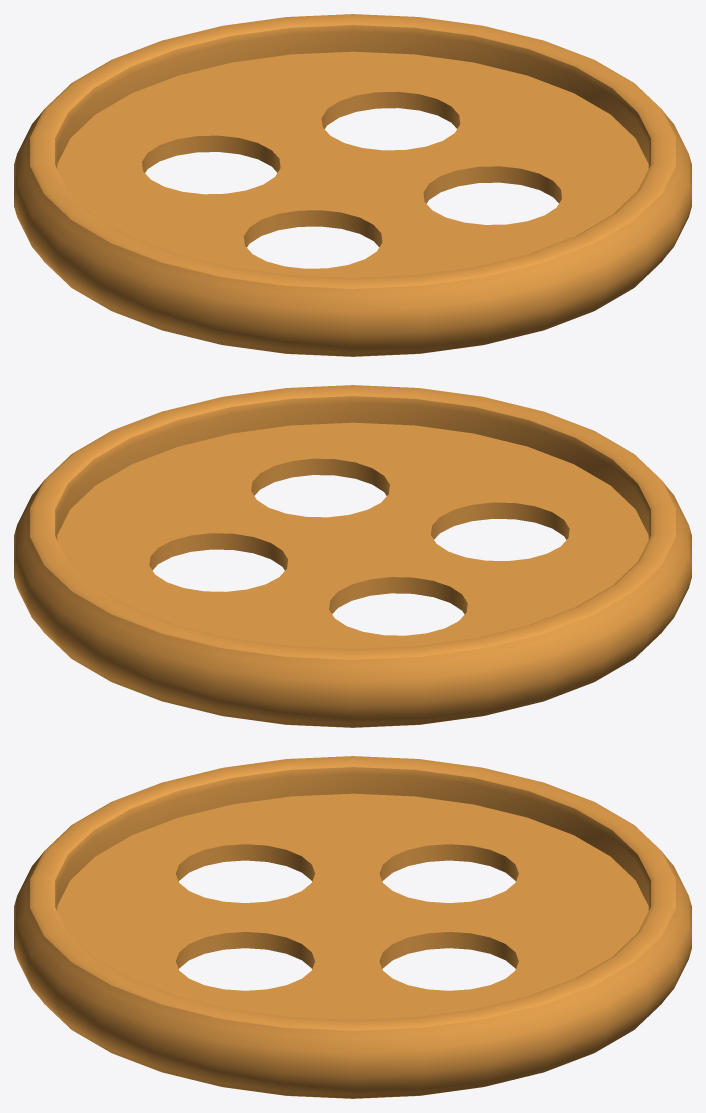
Rendered from button_orange.fbx.
3 views of the same model, one above another, from view 1: azimuth 30°, elevation 25°; view 2: azimuth 150°, elevation 25°; view 3: azimuth 270°, elevation 25° (orthographic).
Visible parts, largest first — view 1: button_orange; view 2: button_orange; view 3: button_orange.
Part boxes in pixels (x1=…): button_orange: x1=14, y1=14, x2=691, y2=356; button_orange: x1=14, y1=385, x2=691, y2=727; button_orange: x1=14, y1=756, x2=691, y2=1098.
Bounding box in the file's own units: 119 × 14.06 × 119.
